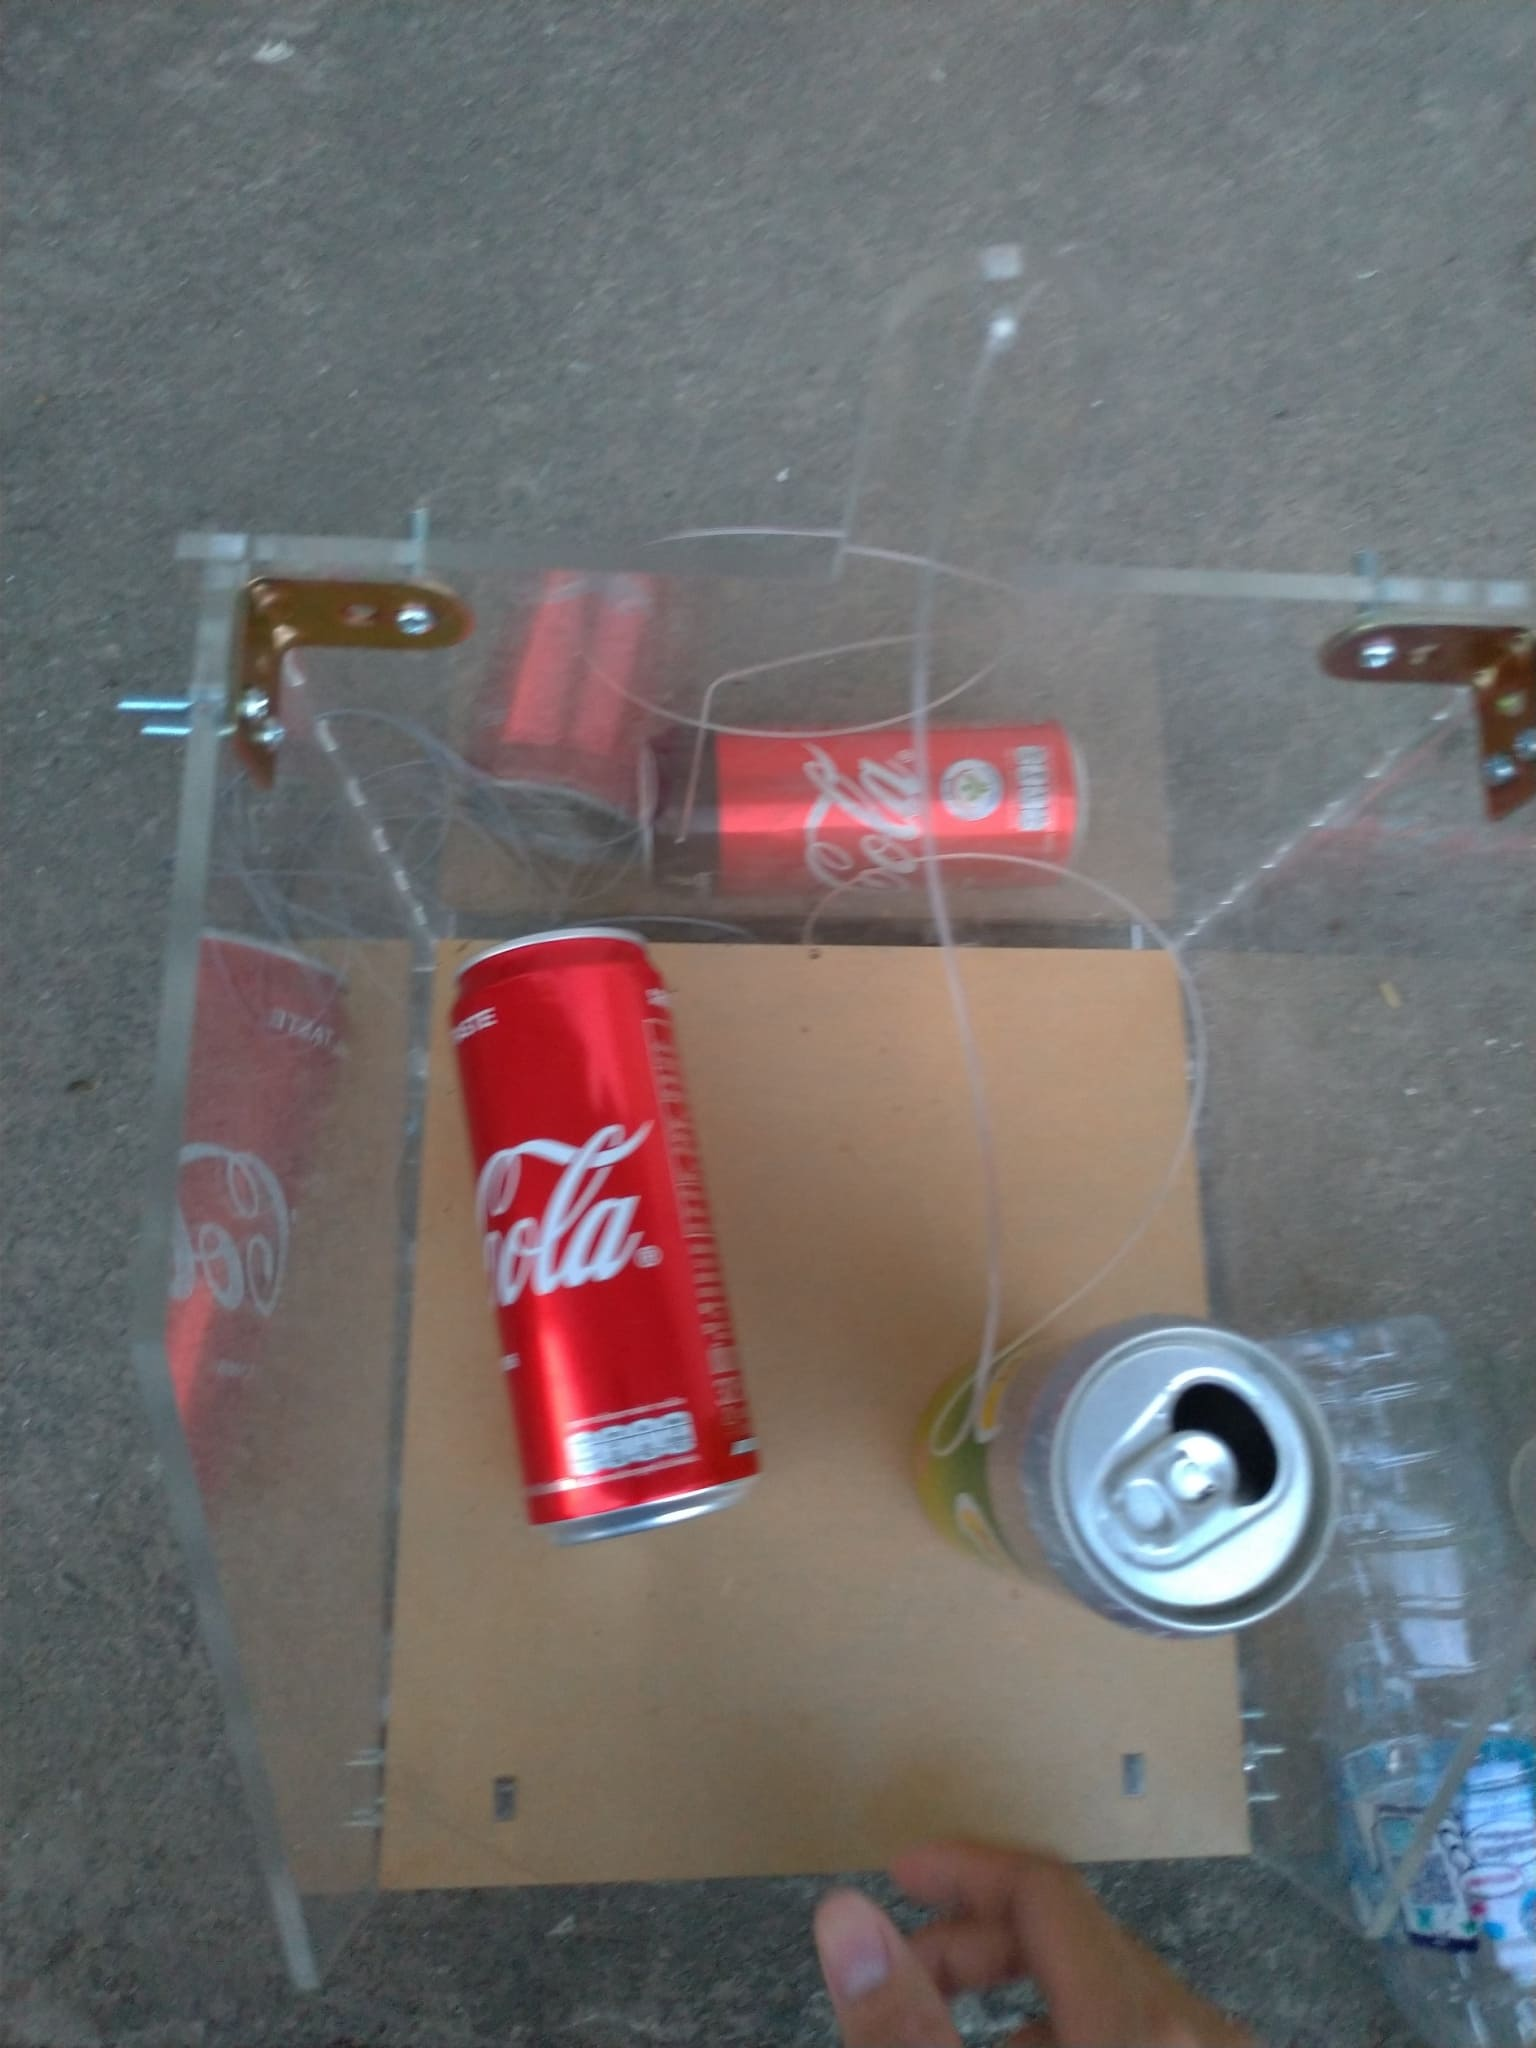AlCan: (444, 922, 766, 1542), (897, 1314, 1338, 1630), (632, 718, 1097, 911)
PlasticBottle: (1247, 1311, 1536, 2035)
